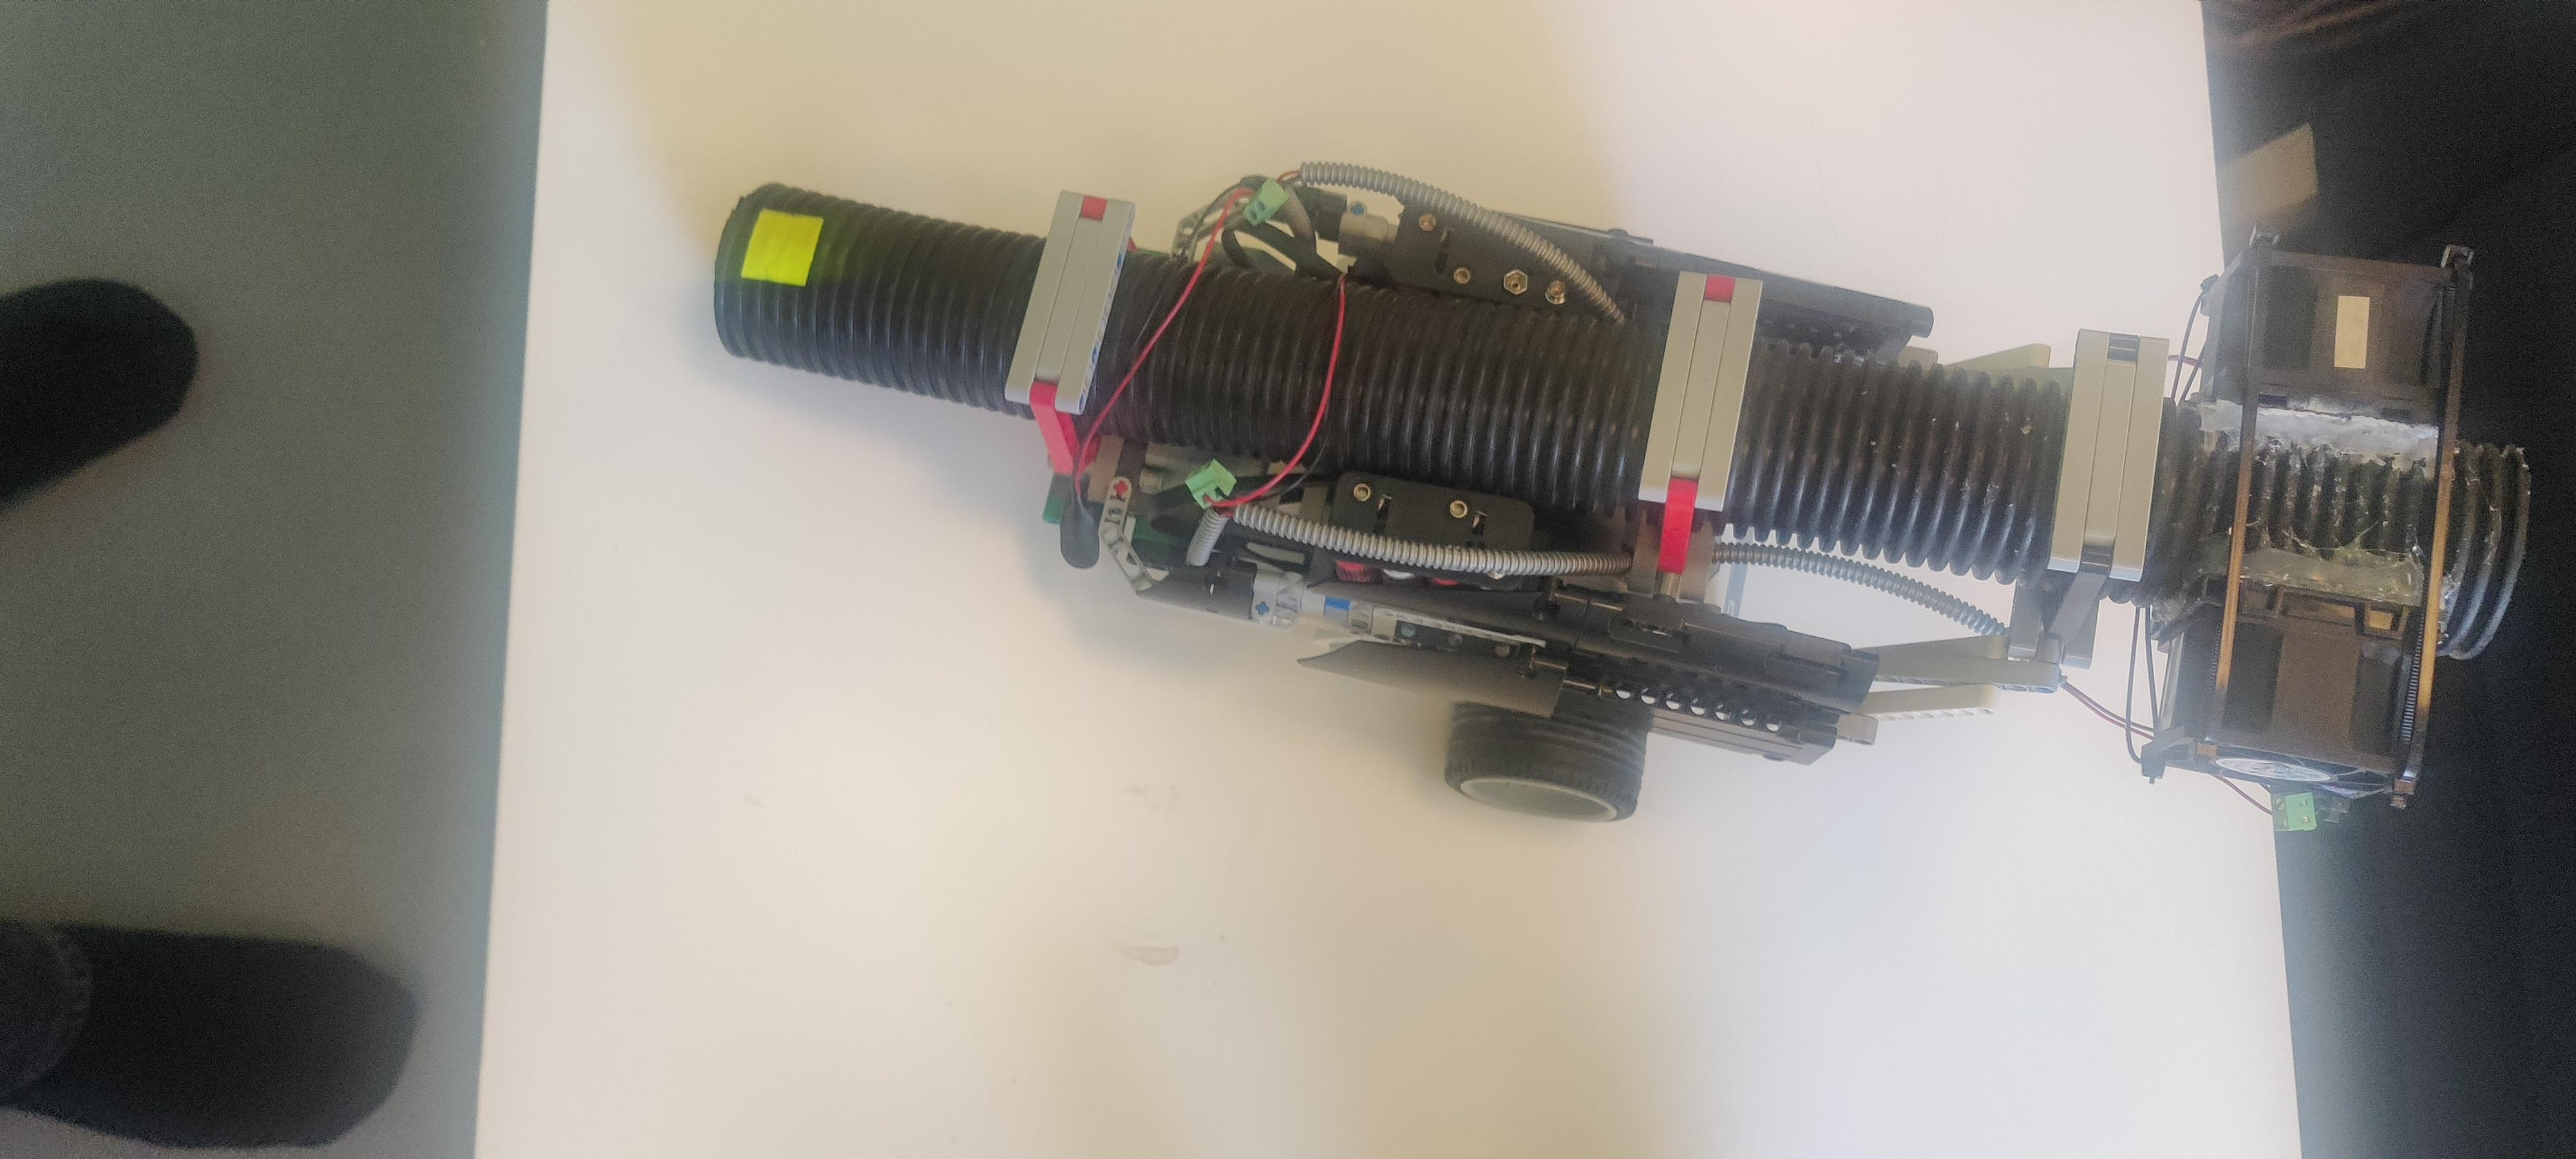robot: (720, 167, 2520, 821)
robot-front: (715, 186, 1042, 409)
